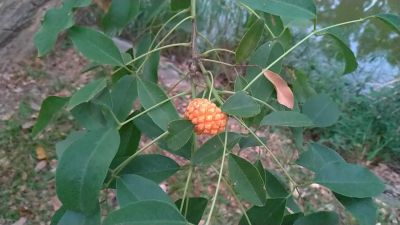eggs: (186, 95, 224, 133)
